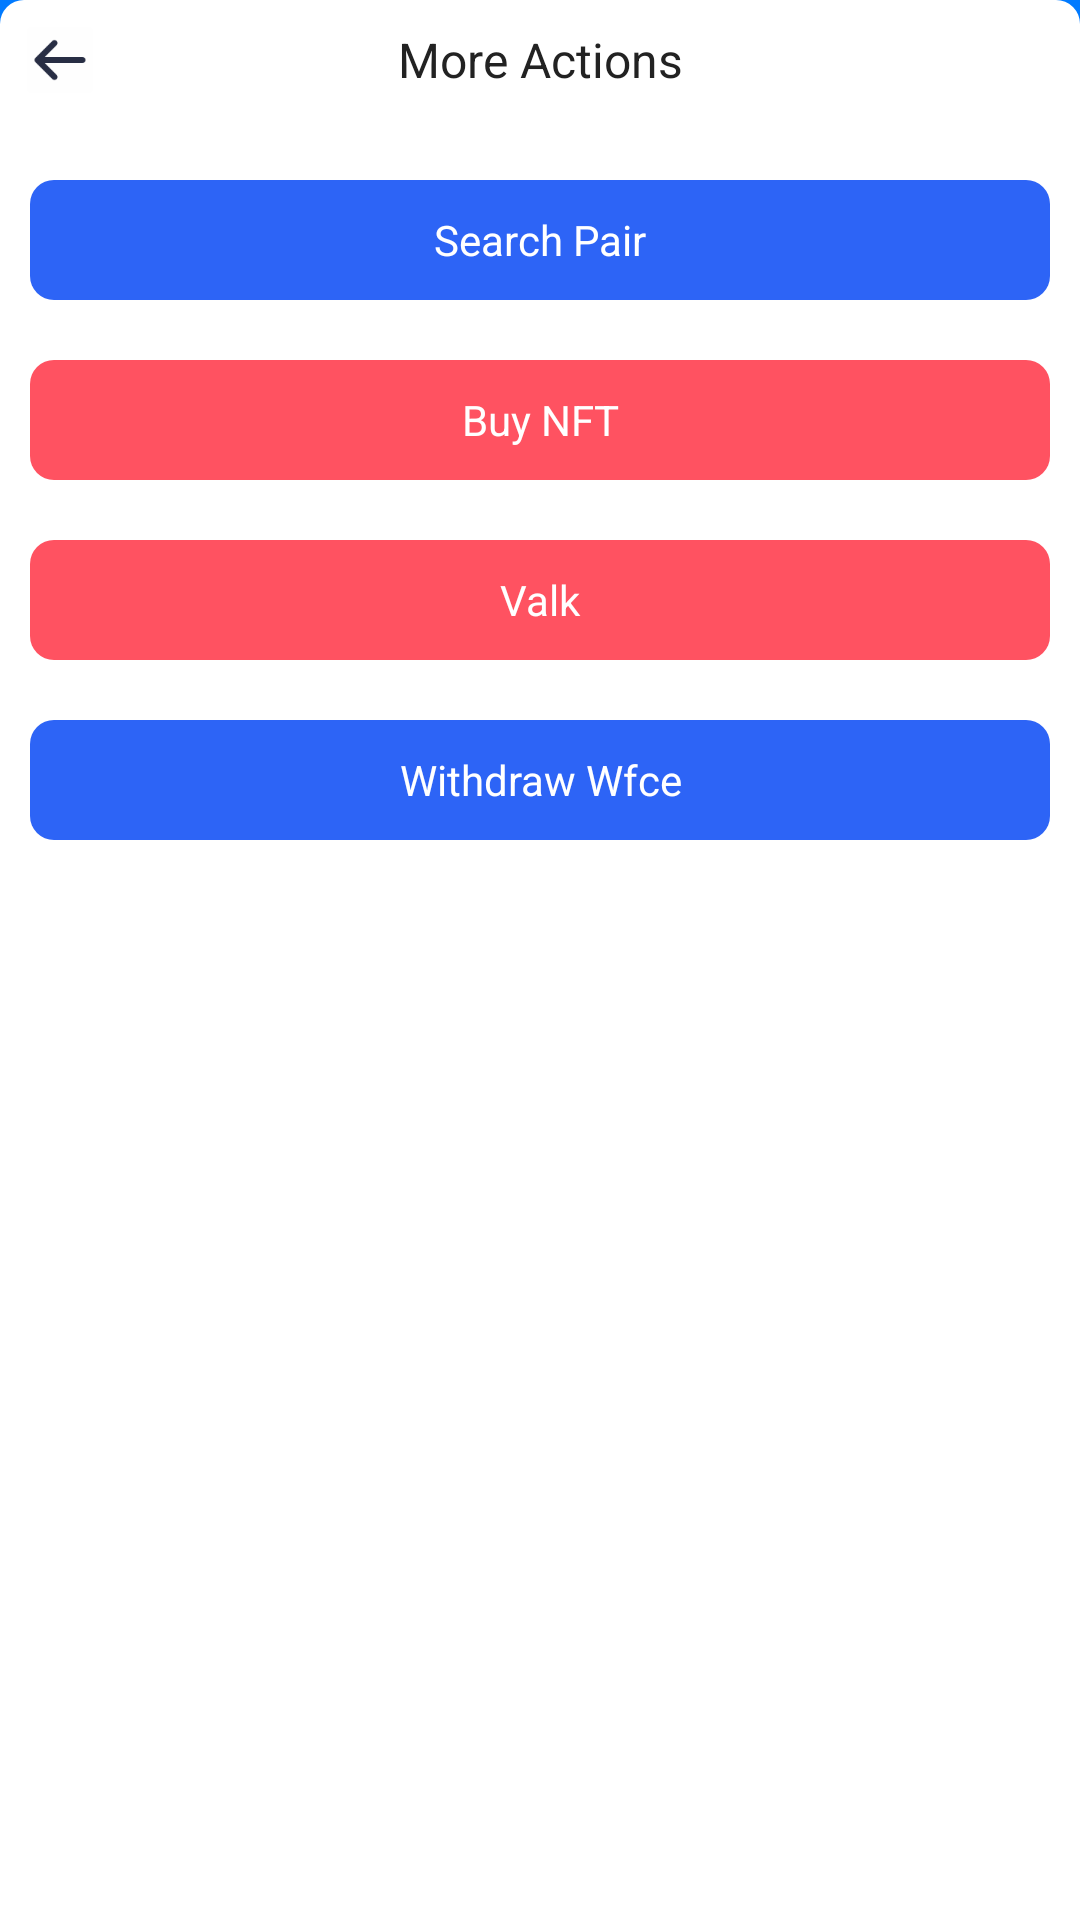

Icons on this 1080 x 1920 Android screen, each with the point to tap as (x=x, y=y):
base back: (x=60, y=60)
